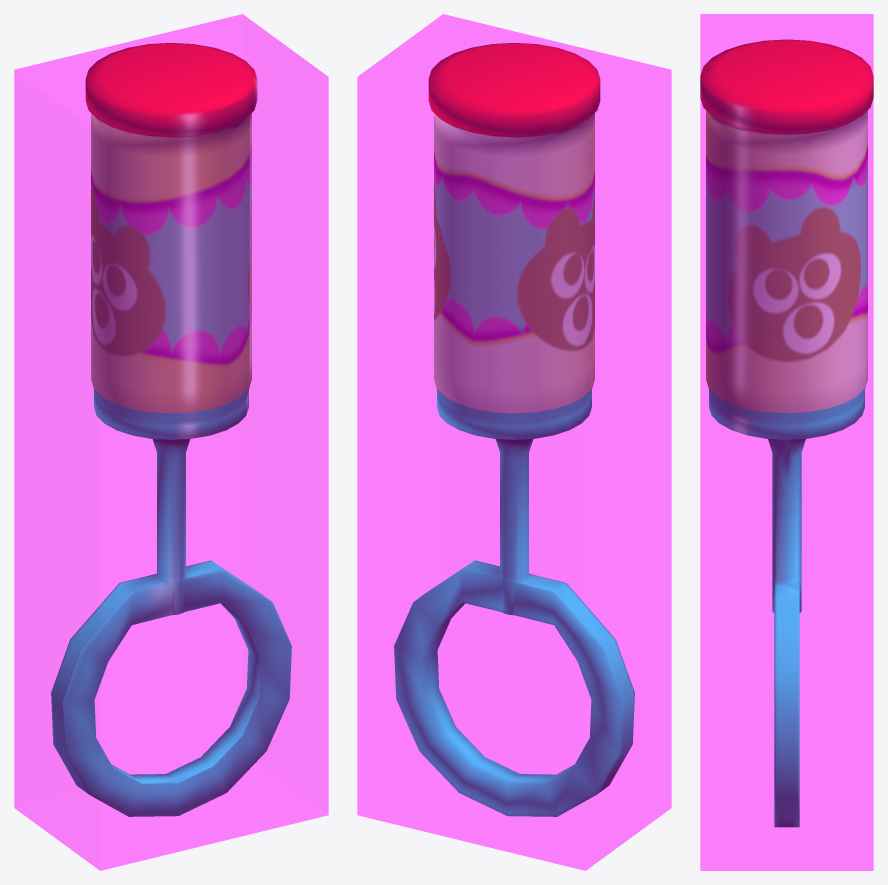
The model's file is garagara.fbx.
3 views of the same model, side by side, from view 1: azimuth 30°, elevation 25°; view 2: azimuth 150°, elevation 25°; view 3: azimuth 270°, elevation 25° (orthographic).
Parts seen in each view (by area): view 1: garagara_boundingBox, garagara; view 2: garagara_boundingBox, garagara; view 3: garagara_boundingBox, garagara.
Boxes of the visible parts, x1,y1,x2,y2 form: garagara_boundingBox: (14, 14, 328, 870); garagara: (51, 43, 291, 816); garagara_boundingBox: (357, 14, 671, 870); garagara: (394, 43, 634, 816); garagara_boundingBox: (700, 14, 873, 870); garagara: (700, 39, 873, 827).
Size of the model in its own units: 0.082 by 0.2535 by 0.0534.
Materials: 2 (1 with a texture image).
